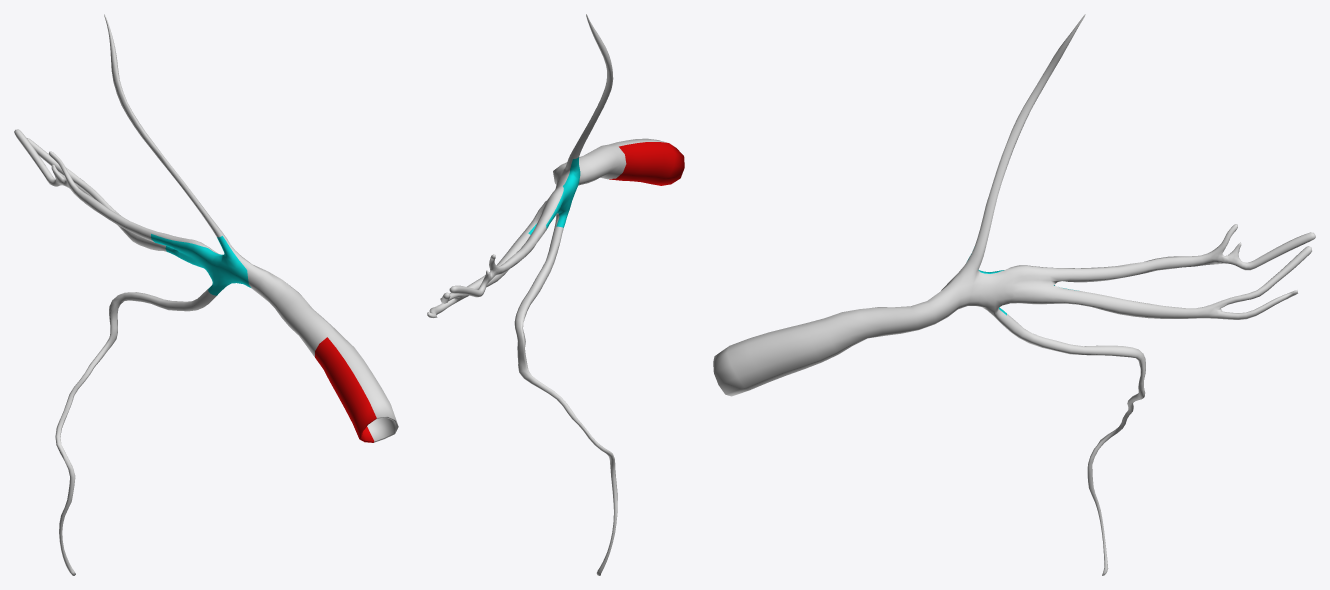
File: Arteria.glb
The picture shows the model from 3 angles, left to right: view 1: azimuth 30°, elevation 25°; view 2: azimuth 150°, elevation 25°; view 3: azimuth 270°, elevation 25°; orthographic projection. The views are drawn at different scales.
Parts seen in each view (by area): view 1: ARTERIA.001; view 2: ARTERIA.001; view 3: ARTERIA.001.
Boxes of the visible parts, x1,y1,x2,y2 form: ARTERIA.001: (14, 14, 398, 575); ARTERIA.001: (427, 14, 684, 575); ARTERIA.001: (713, 14, 1315, 575).
Size of the model in its own units: 0.586 by 2 by 1.91.
